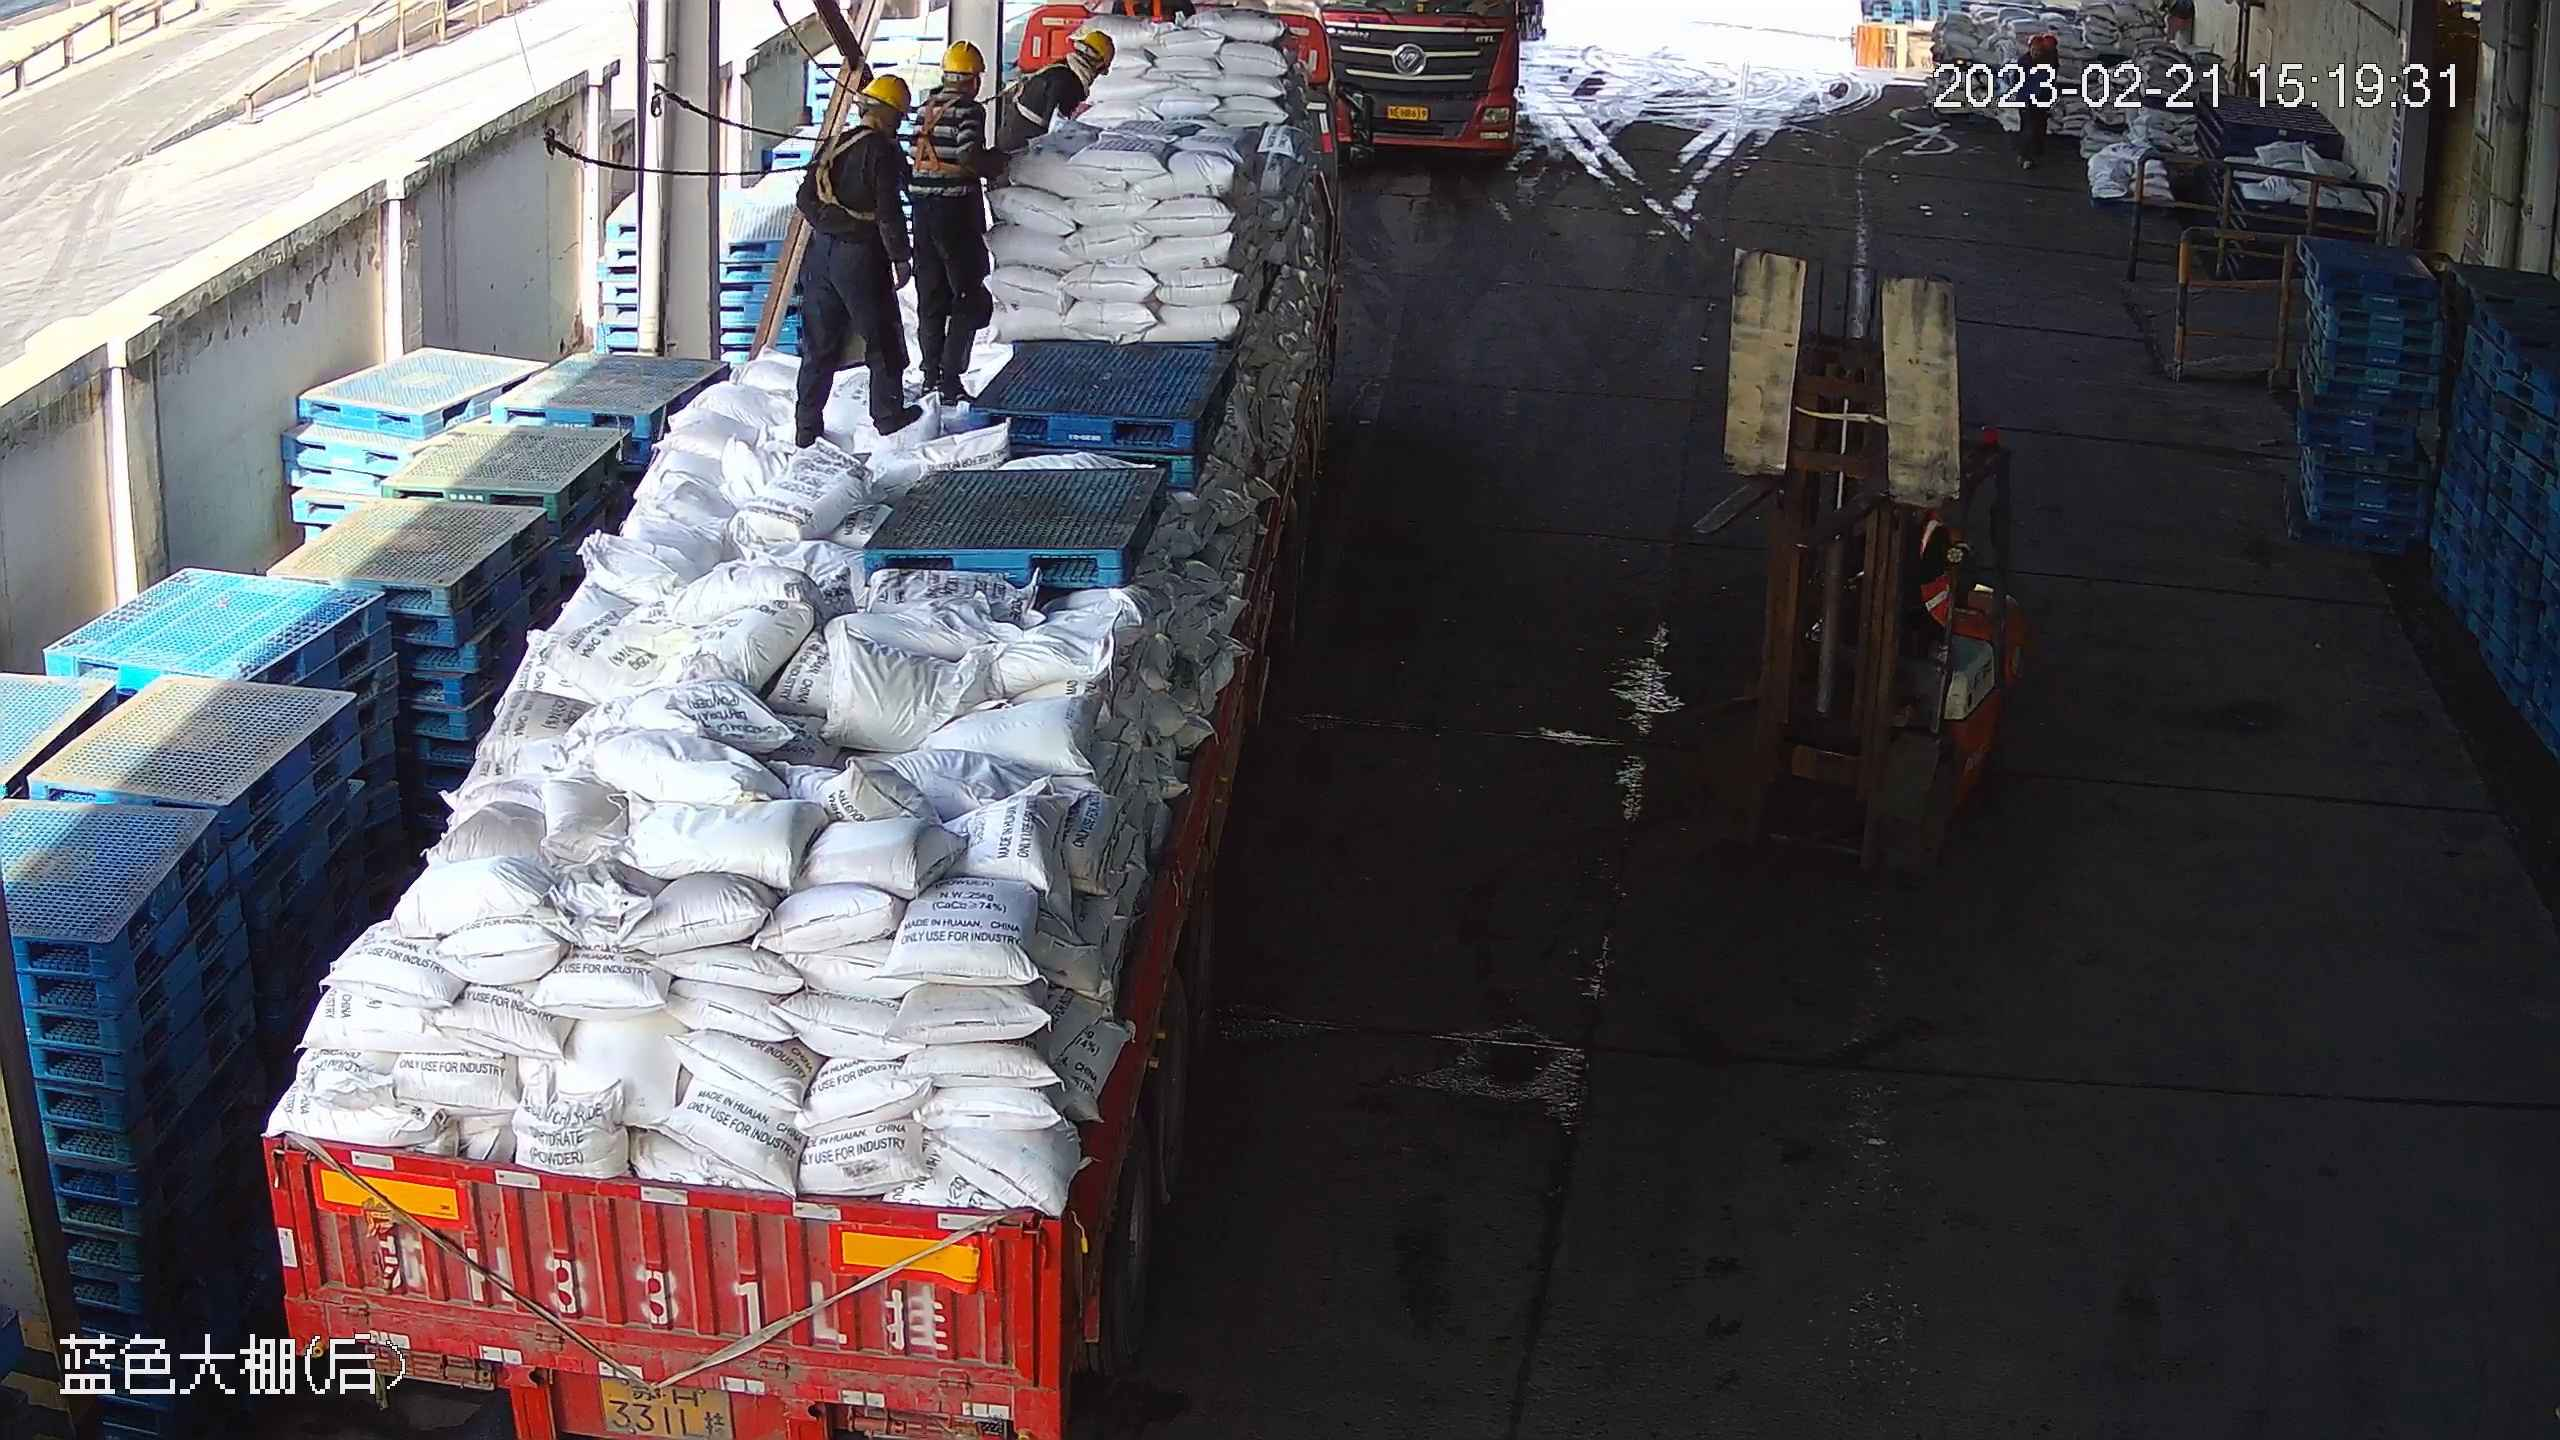belt: (811, 129, 866, 216), (911, 91, 964, 162), (1001, 58, 1062, 112)
head: (783, 62, 907, 180), (903, 36, 998, 145), (1029, 27, 1118, 123)
helmet: (859, 58, 922, 114), (1083, 17, 1118, 75), (944, 40, 988, 79)
people: (788, 69, 920, 434), (905, 42, 1012, 398)
truck: (238, 1, 1333, 1440), (1329, 4, 1538, 180)
